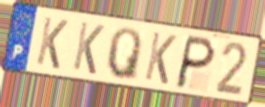2: (212, 40, 248, 96)
K: (34, 15, 70, 72), (71, 20, 106, 77), (143, 30, 178, 87)
P: (172, 34, 218, 92)
Q: (105, 26, 144, 84)
